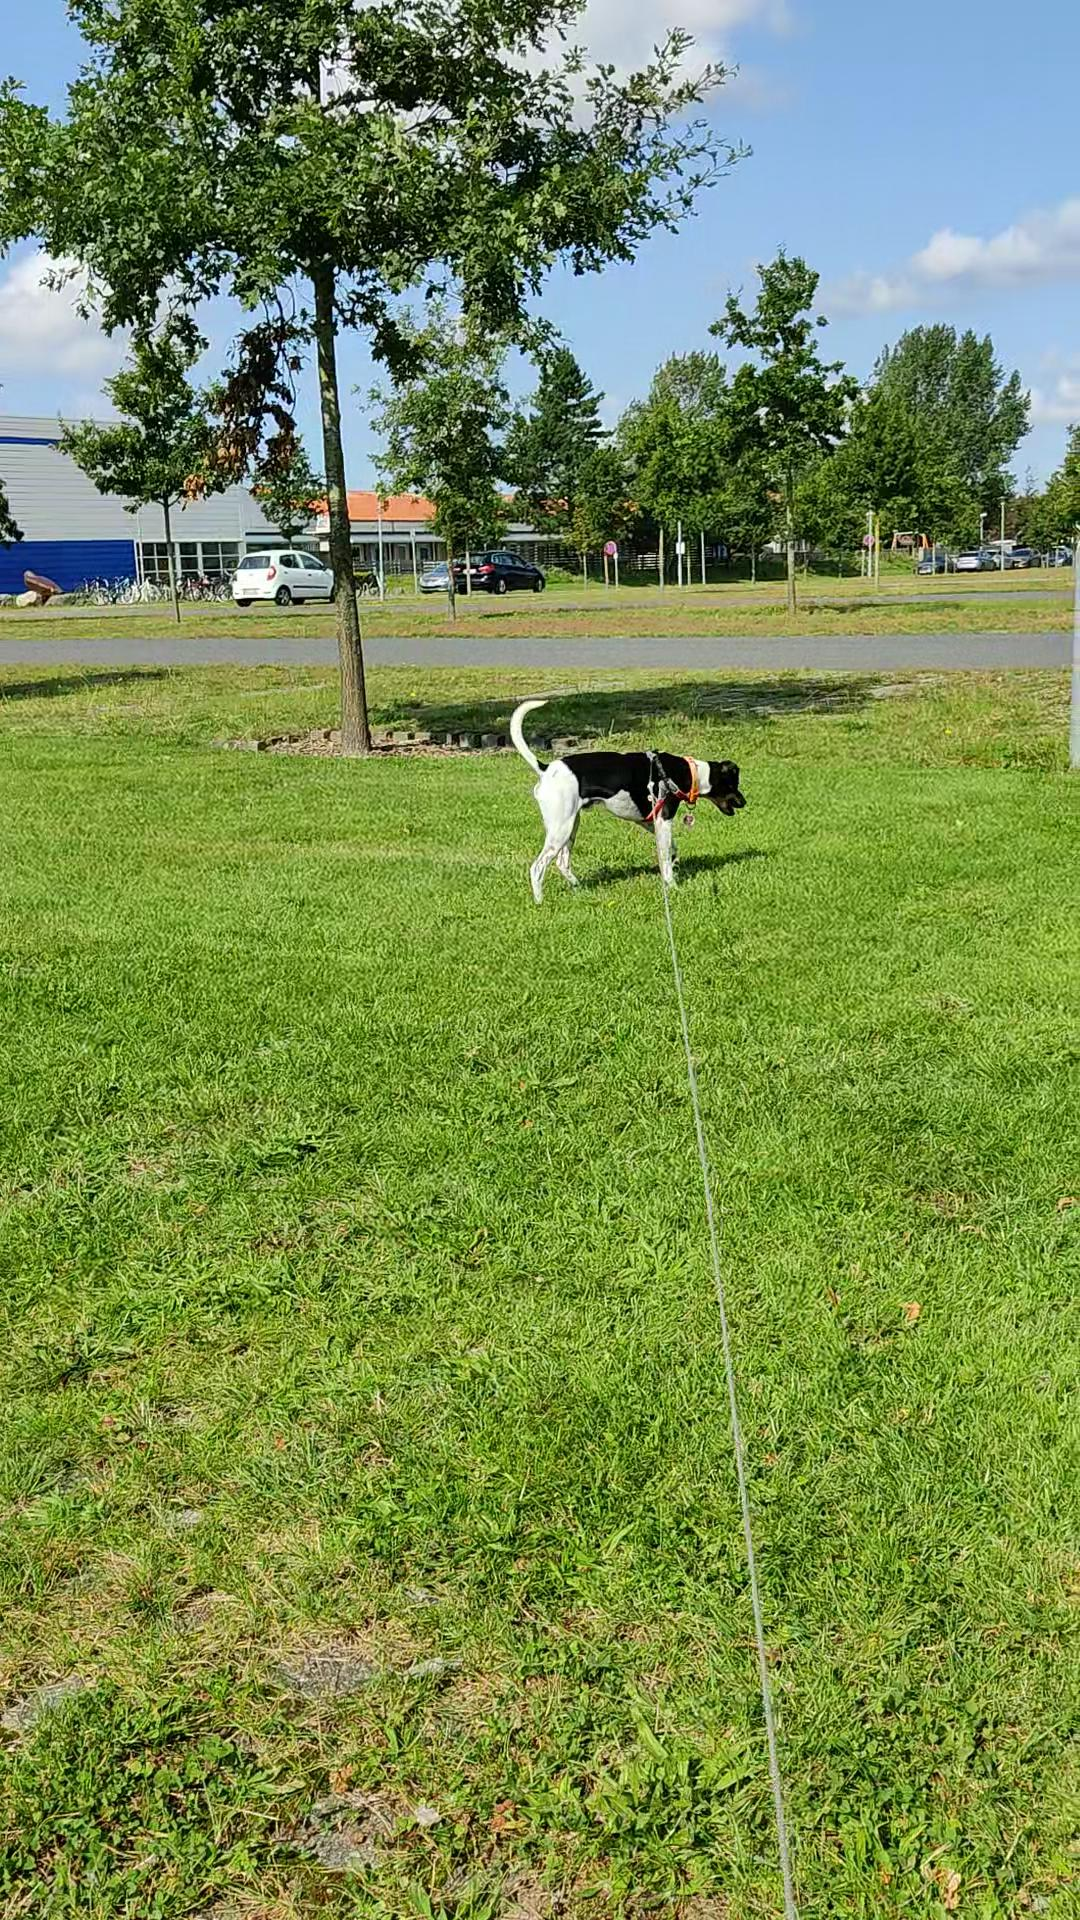Dog: (502, 694, 753, 902)
